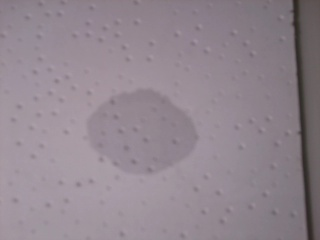Water_detected: (98, 100, 183, 161)
